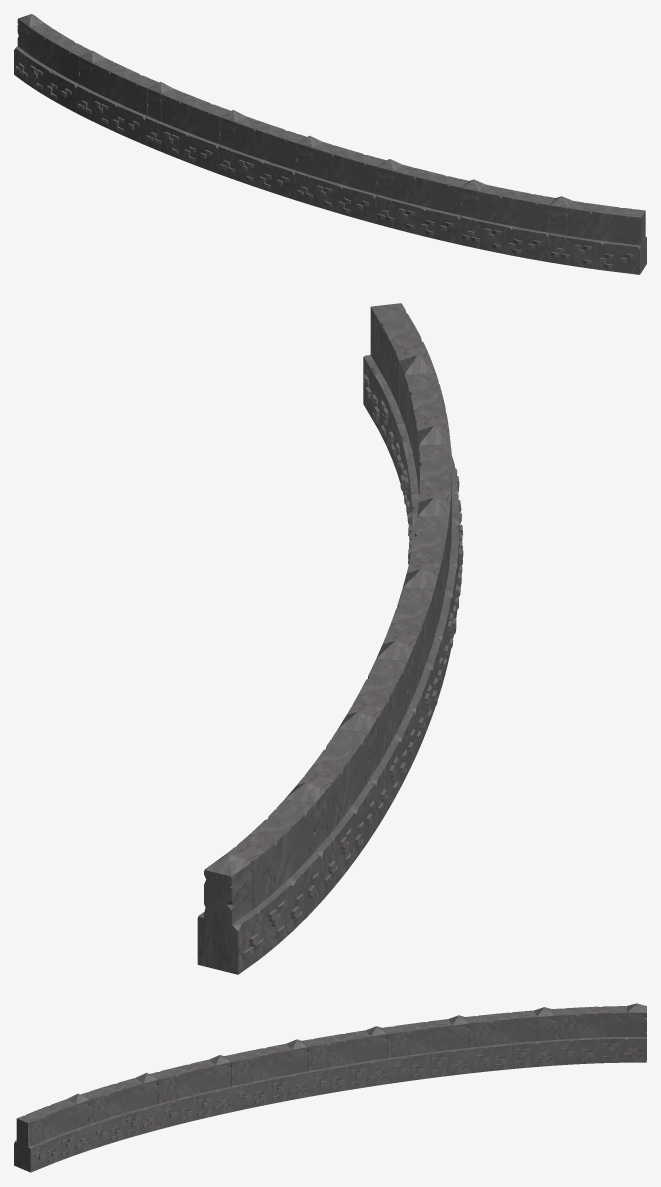
Rendered from Pagarbanyak6.fbx.
3 renders of one model, top to bottom at view 1: azimuth 30°, elevation 25°; view 2: azimuth 150°, elevation 25°; view 3: azimuth 270°, elevation 25°, orthographic. The views are drawn at different scales.
Parts seen in each view (by area): view 1: Tembok.002; view 2: Tembok.002; view 3: Tembok.002.
Part boxes in pixels (bbox=[...]): Tembok.002: bbox=[14, 14, 646, 274]; Tembok.002: bbox=[197, 303, 463, 974]; Tembok.002: bbox=[14, 1003, 646, 1172].
Size of the model in its own units: 848 by 178 by 1878.
